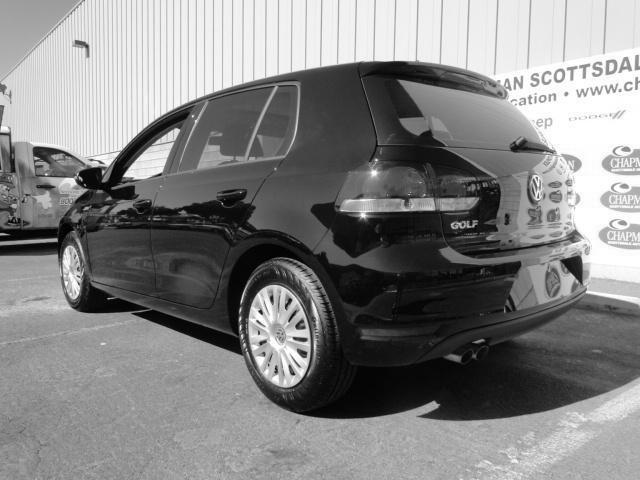car: (59, 60, 594, 416)
